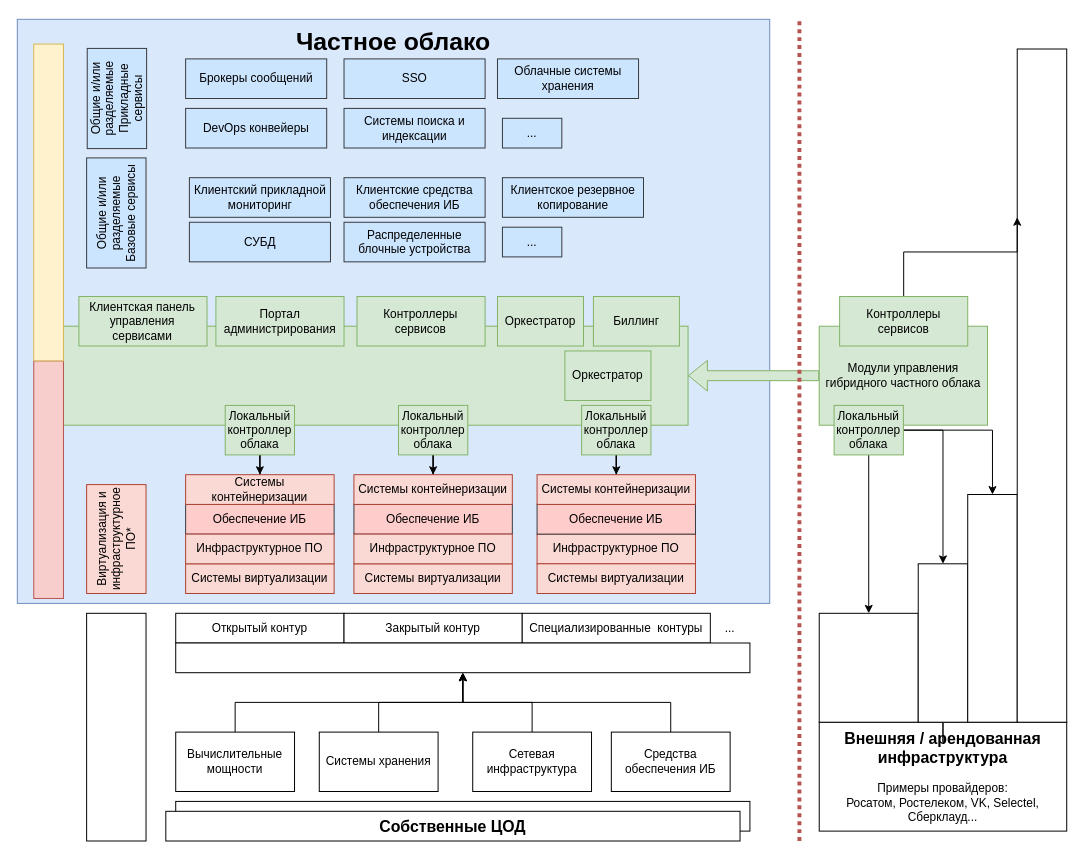
Some shapes in this 1084 by 860 pixel diagram are drawn without their labels. The box of each missing label's shape, as (x1, y1, x2, y2) in pixels:
IaaS: (917, 563, 968, 722)
IaaS+: (967, 494, 1017, 722)
PaaS: (1016, 48, 1067, 722)
Деление на сегменты и контуры безопасности: (175, 642, 750, 673)
Инфраструктура: (86, 612, 146, 841)
Инфраструктурная часть облака (IaaS/IaaS+): (33, 360, 63, 598)
Колокейшн: (818, 612, 918, 722)
Модули управления компонентами частного облака: (56, 325, 688, 425)
Прикладная часть облака (PaaS): (33, 43, 63, 361)
